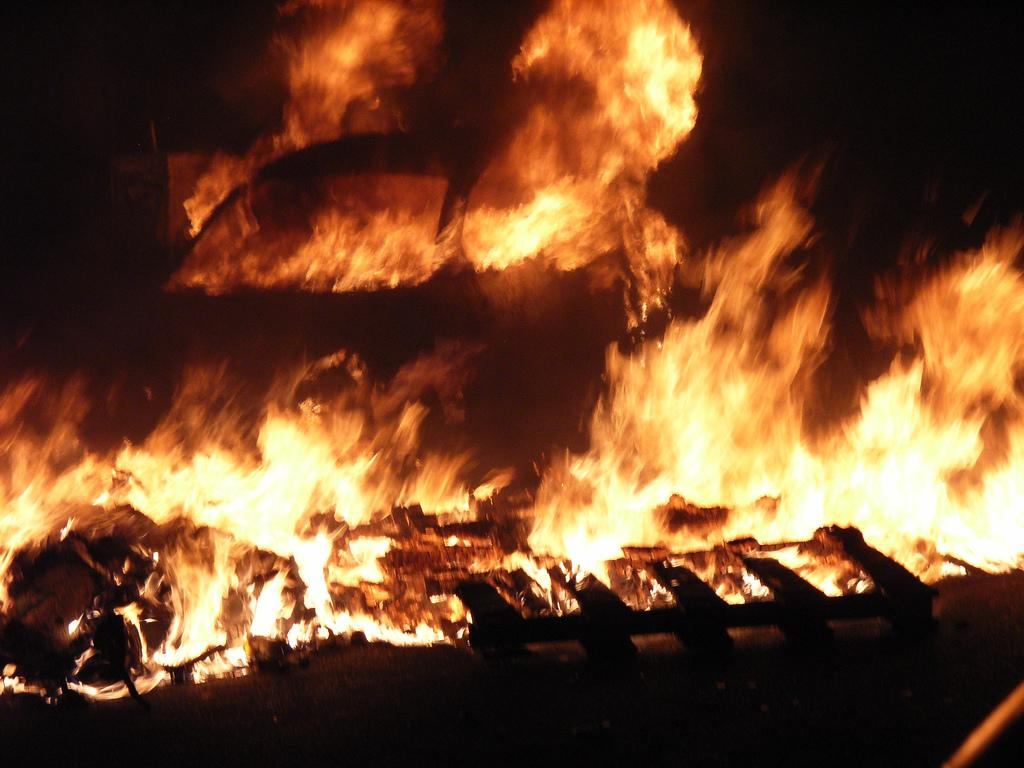fire: (606, 336, 800, 526), (150, 456, 336, 642), (866, 404, 1002, 564), (560, 12, 678, 158), (482, 194, 610, 266)
